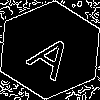A: (25, 25, 84, 82)
